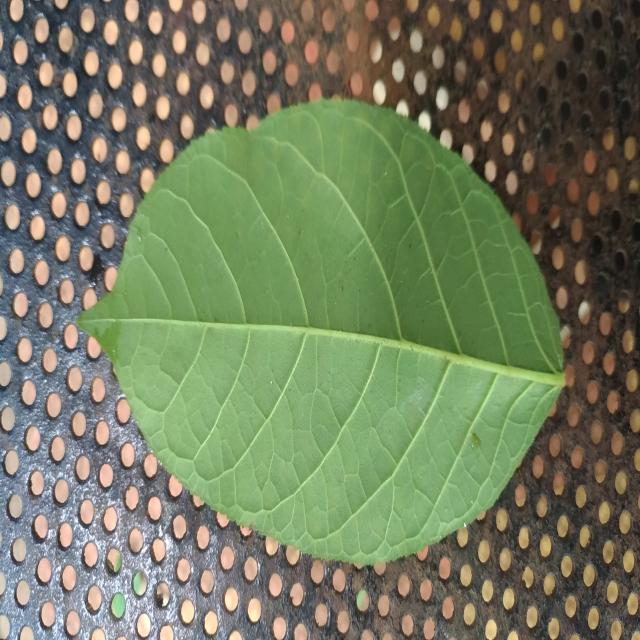padri: (80, 100, 564, 564)
